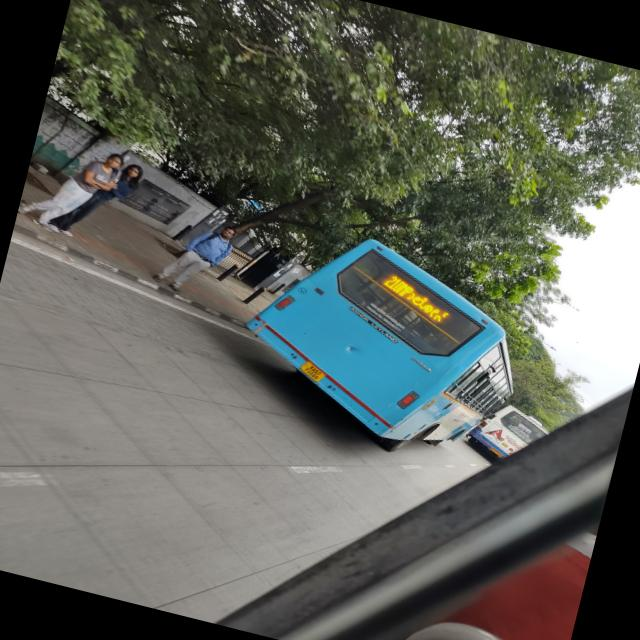bus: (215, 207, 548, 494), (462, 374, 565, 471)
display: (377, 272, 456, 326)
dnumber: (382, 272, 415, 300)
